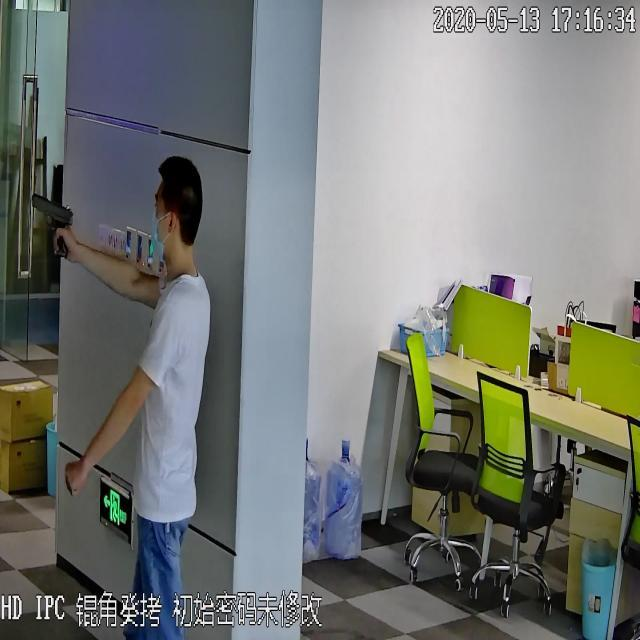gun: (30, 188, 74, 264)
